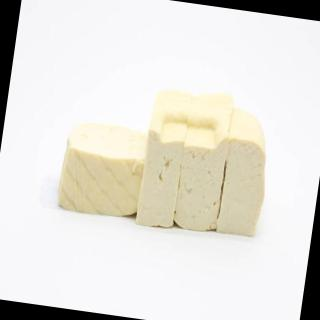Tahu: (49, 68, 288, 262)
